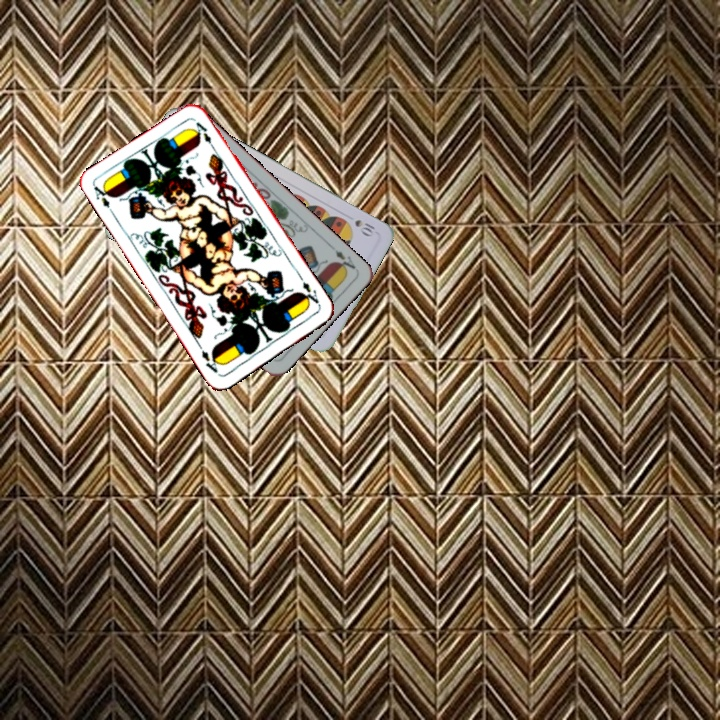EA: (326, 242, 358, 275), (90, 181, 117, 218), (297, 277, 323, 310)
S10: (350, 215, 377, 238)
